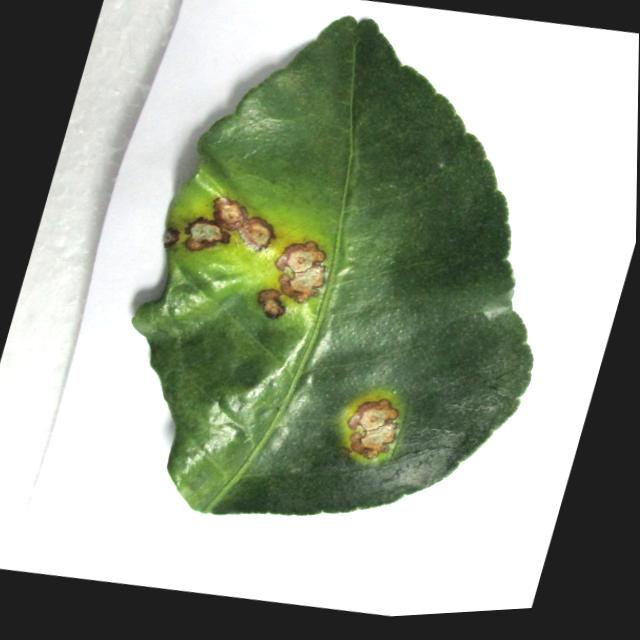antracnose: (133, 16, 531, 516), (346, 399, 397, 460), (274, 241, 324, 303), (184, 218, 229, 251), (238, 217, 274, 251), (212, 197, 247, 231), (257, 290, 284, 319)
